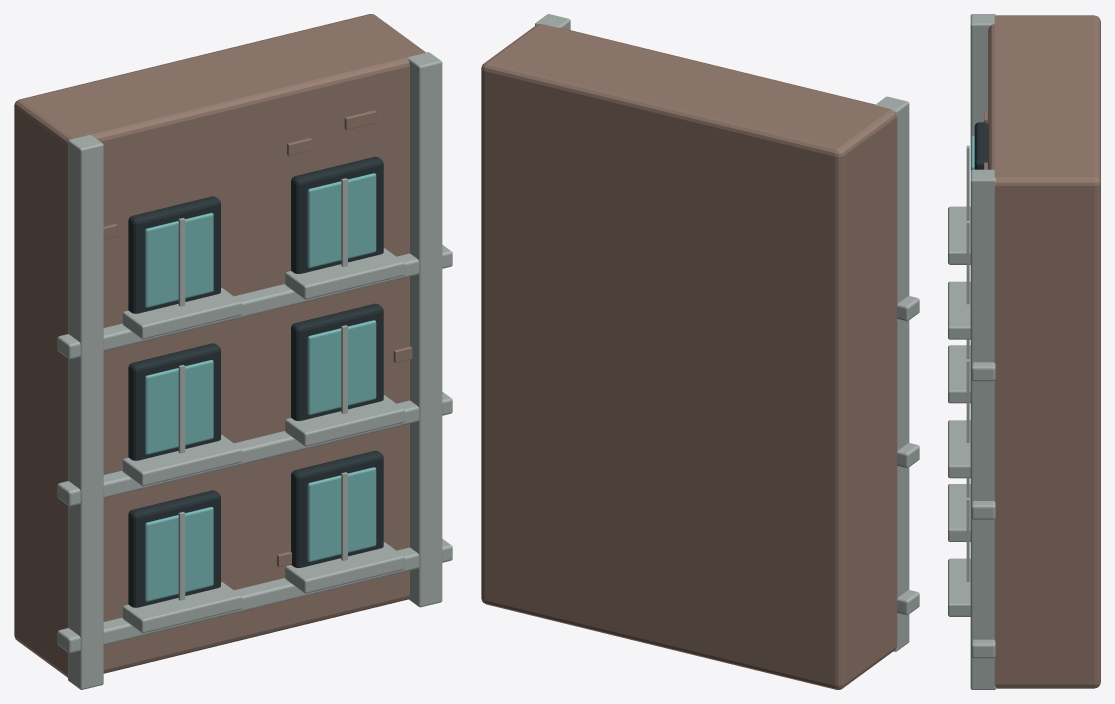
The model's file is SM_CityFacade2.fbx.
The picture shows the model from 3 angles, left to right: view 1: azimuth 30°, elevation 25°; view 2: azimuth 150°, elevation 25°; view 3: azimuth 270°, elevation 25°; orthographic projection. The views are drawn at different scales.
Visible parts, largest first — view 1: SM_CityFacade2; view 2: SM_CityFacade2; view 3: SM_CityFacade2.
Boxes of the visible parts, x1=… form: SM_CityFacade2: x1=14, y1=14, x2=452, y2=689; SM_CityFacade2: x1=481, y1=14, x2=919, y2=689; SM_CityFacade2: x1=948, y1=14, x2=1100, y2=689.
Size of the model in its own units: 260 by 95 by 350.
